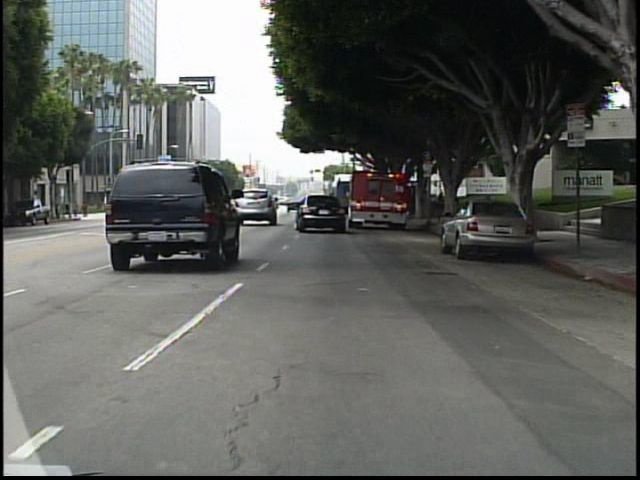person: (71, 197, 83, 221), (81, 199, 93, 221)
